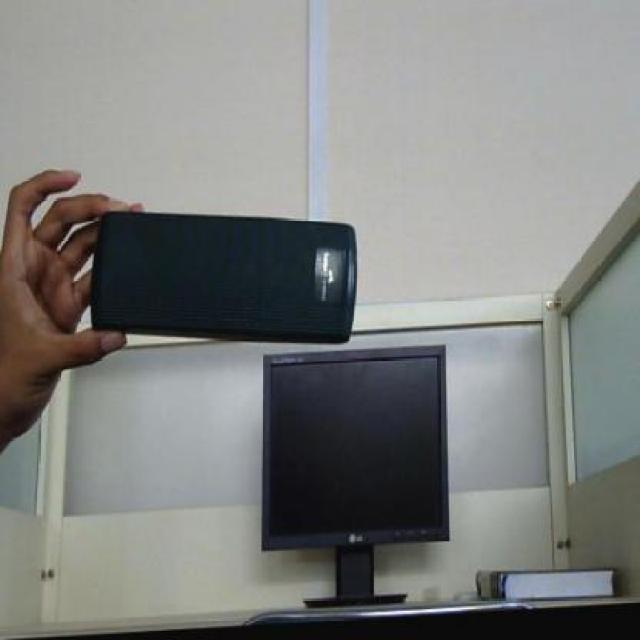Plastic: (85, 194, 374, 360)
